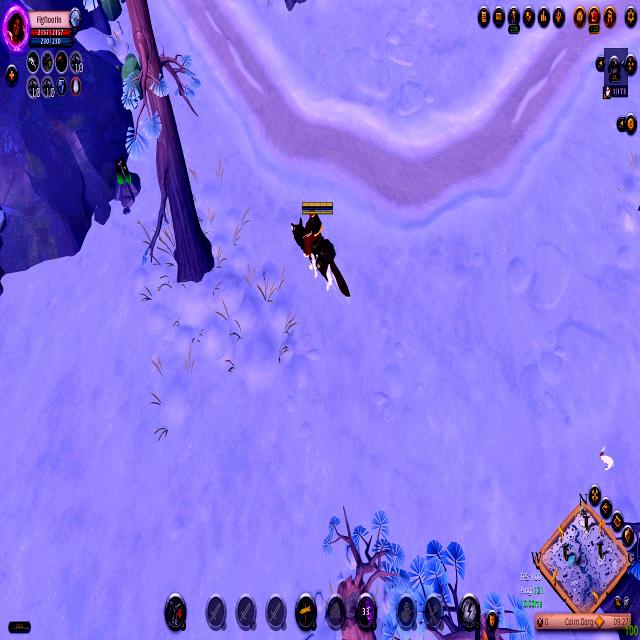player: (103, 150, 147, 212)
red: (283, 193, 357, 303)
tree: (114, 48, 149, 114), (95, 0, 128, 29)
